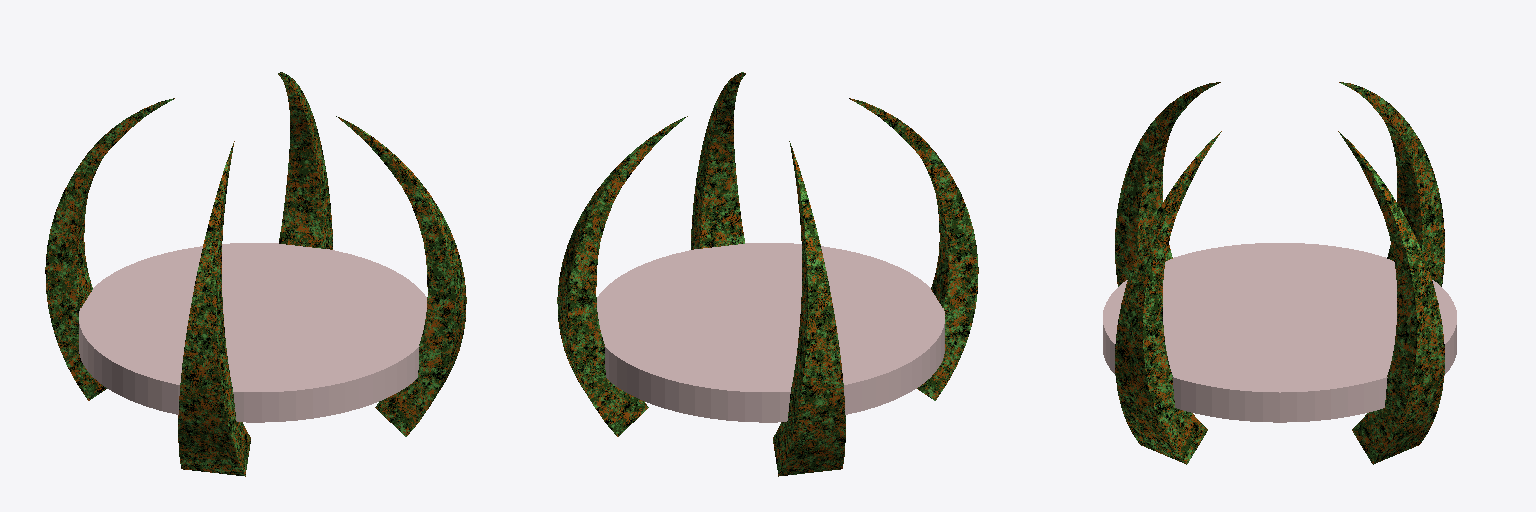
3 views of the same model, side by side, from view 1: azimuth 30°, elevation 25°; view 2: azimuth 150°, elevation 25°; view 3: azimuth 270°, elevation 25° (orthographic).
Visible parts, largest first — view 1: teleport_1; view 2: teleport_1; view 3: teleport_1.
Boxes of the visible parts, x1,y1,x2,y2 form: teleport_1: [45, 72, 466, 476]; teleport_1: [557, 72, 978, 476]; teleport_1: [1103, 82, 1456, 464].
Bounding box in the file's own units: 4 × 3.73 × 4.
Materials: 2 (2 with a texture image).